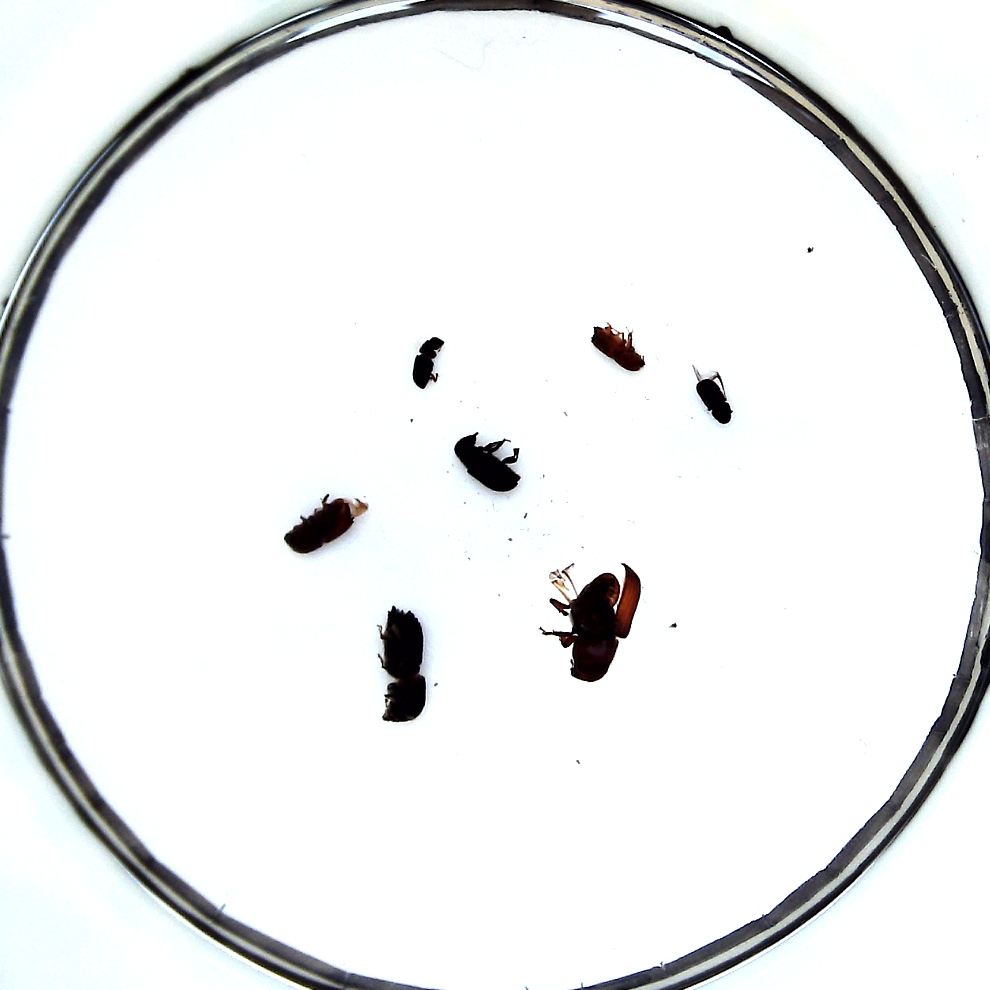Boerner: (381, 603, 430, 726)
Leconte: (545, 564, 642, 682)
Linnaeus: (283, 498, 365, 553)
acuminatus: (589, 320, 645, 373)
armandi: (451, 431, 521, 494)
coleoptera: (693, 371, 735, 426), (411, 334, 445, 391)
